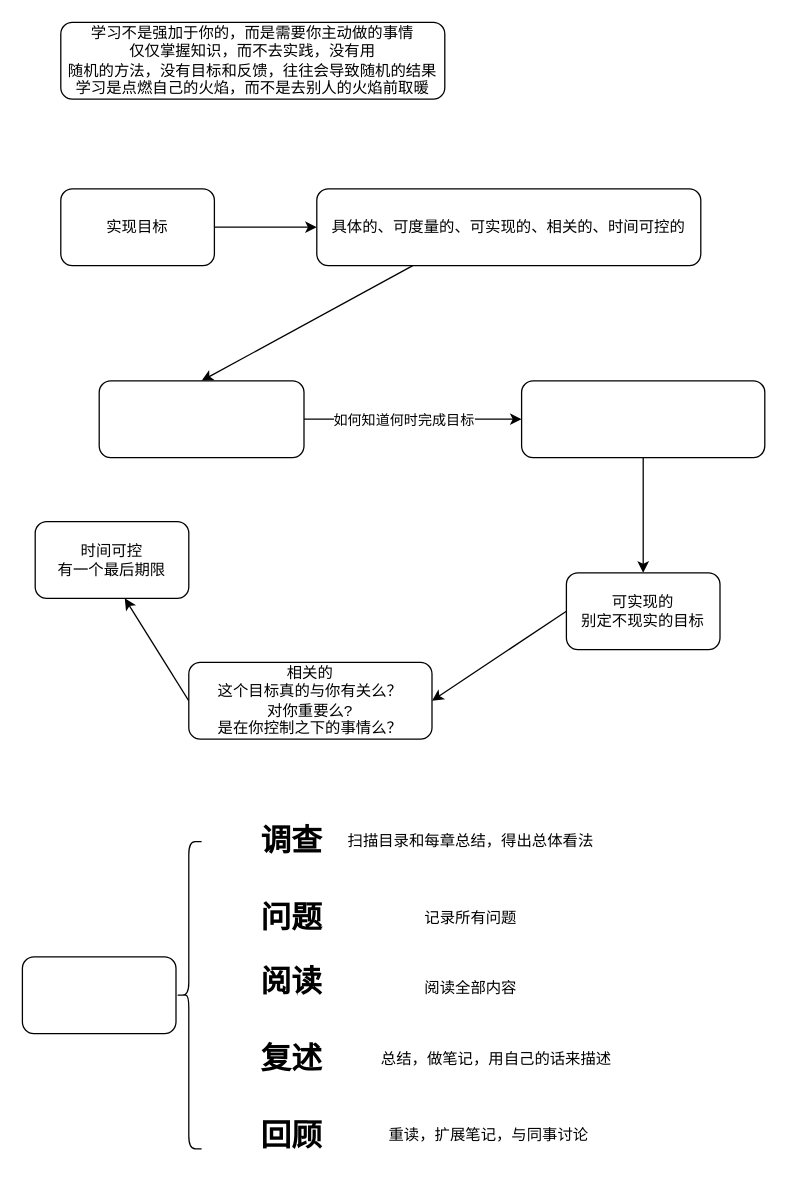
Some shapes in this 787 by 1184 pixel diagram are drawn without their labels. Here are the shapes that lost their labels. From the top down, the centre of each, then its label:
the point at 201,419: 目标应该是具体的 而不是泛泛而谈的理想状态
the point at 642,419: 度量目标 你不必看清你去往何处 不必看清你的目的地和沿途的一切 你只需要看清面前的一两米即可
the point at 98,995: 如何读一本书
